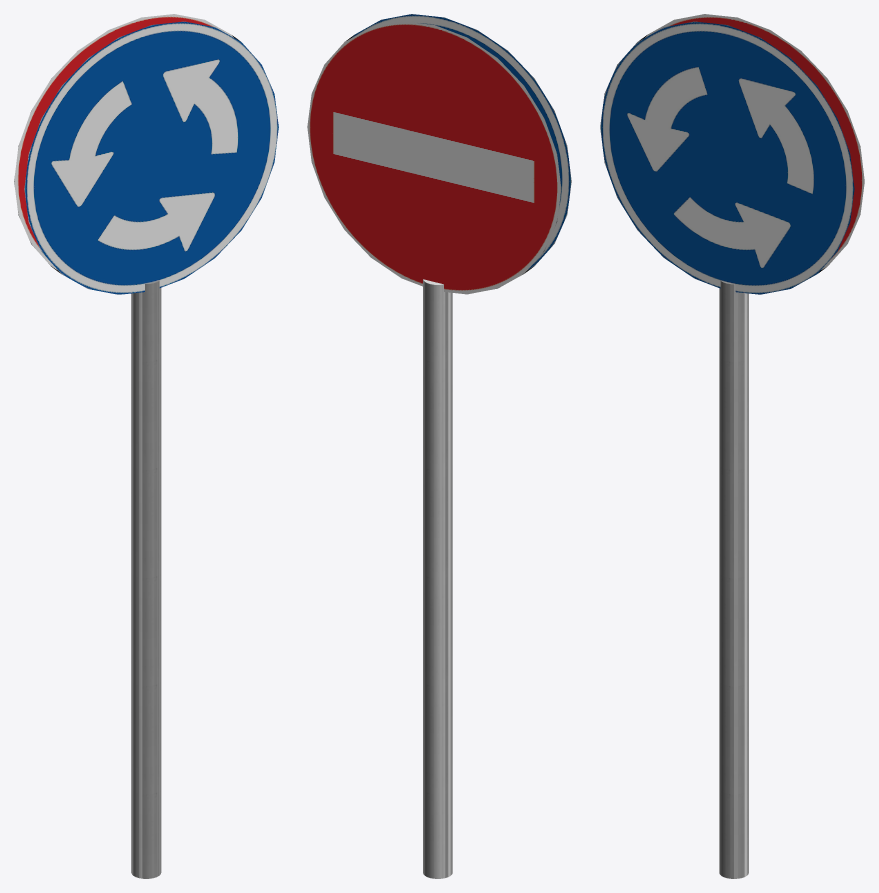
File: roundabout_sign.gltf
The picture shows the model from 3 angles, left to right: view 1: azimuth 30°, elevation 25°; view 2: azimuth 150°, elevation 25°; view 3: azimuth 330°, elevation 25°; orthographic projection.
Parts seen in each view (by area): view 1: root; view 2: root; view 3: root.
Boxes of the visible parts, x1,y1,x2,y2 form: root: (14, 14, 278, 878); root: (307, 14, 571, 878); root: (600, 14, 864, 878).
Bounding box in the file's own units: 0.2502 × 0.8006 × 0.0254.
5 materials, 3 textured.
